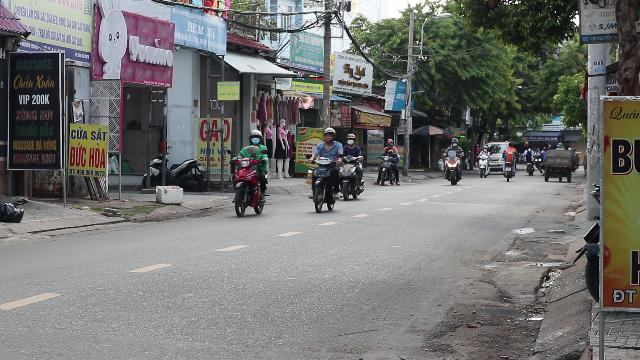helmet: (322, 127, 336, 142), (248, 130, 262, 144)
motorcyclist: (227, 130, 271, 216), (304, 126, 344, 214)
